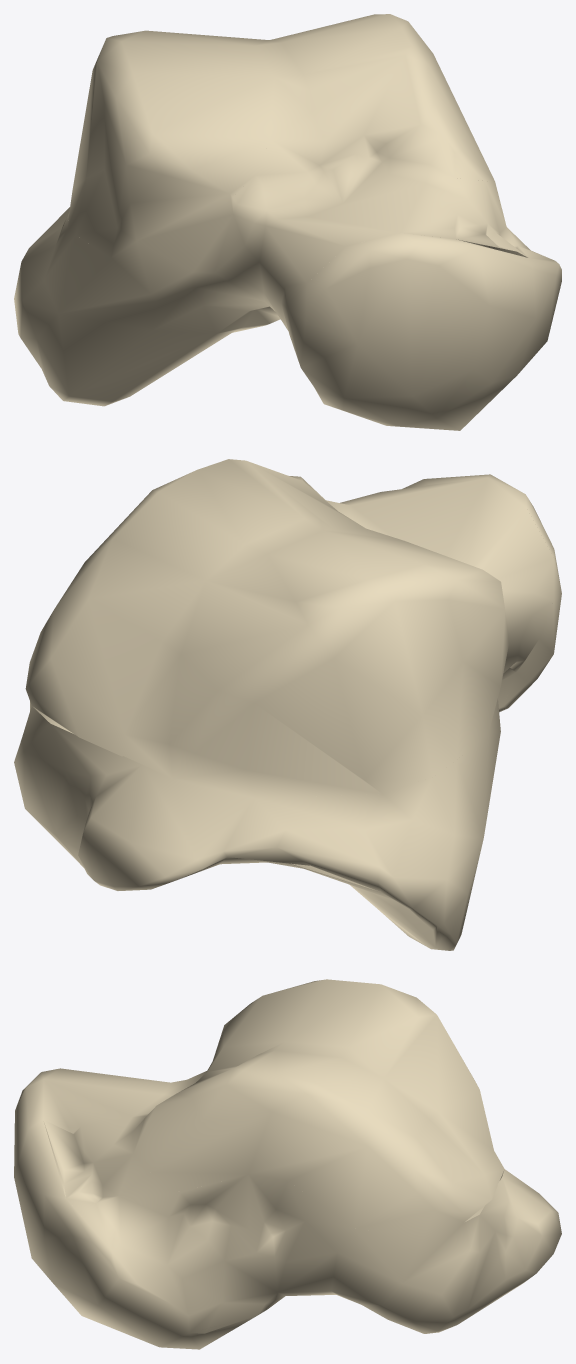
The model's file is esqueleto-talus-r.glb.
The picture shows the model from 3 angles, top to bottom: view 1: azimuth 30°, elevation 25°; view 2: azimuth 150°, elevation 25°; view 3: azimuth 270°, elevation 25°; orthographic projection. The views are drawn at different scales.
Visible parts, largest first — view 1: Talus.r; view 2: Talus.r; view 3: Talus.r.
Boxes of the visible parts, x1,y1,x2,y2 form: Talus.r: (14,14,561,430); Talus.r: (14,459,561,950); Talus.r: (14,979,561,1349).
Size of the model in its own units: 0.0421 by 0.0356 by 0.0591.
